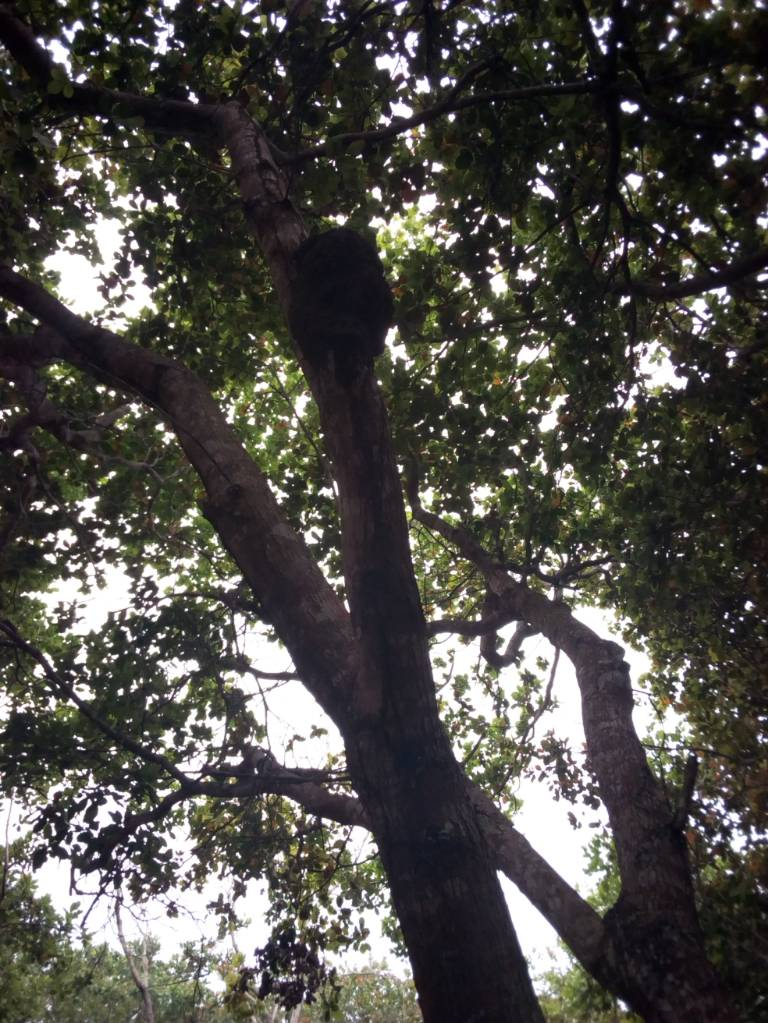Termites: (294, 225, 396, 366)
